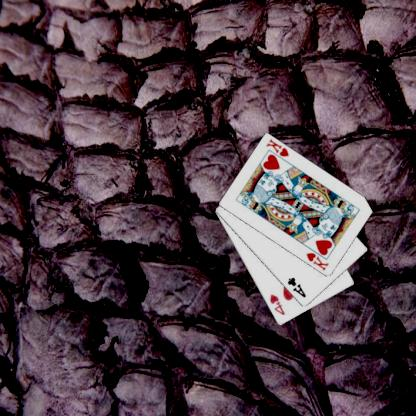4H: (269, 291, 288, 317)
AC: (287, 275, 309, 299)
KH: (306, 250, 332, 272), (265, 137, 292, 158)
